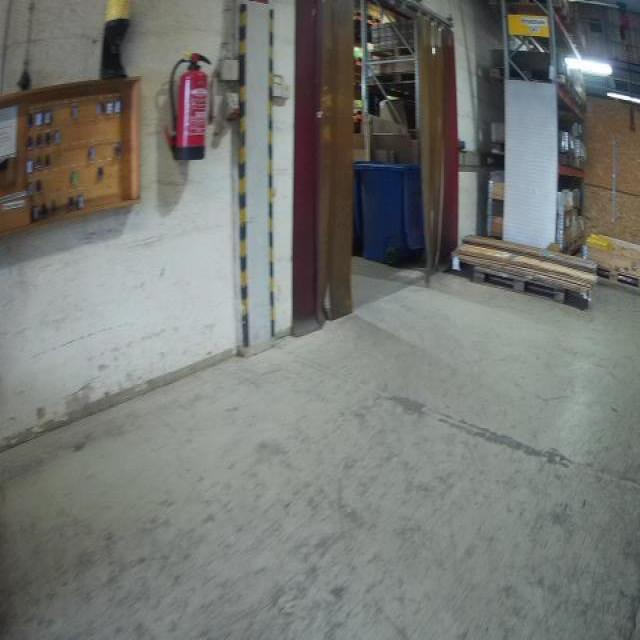pallet: (470, 265, 565, 306), (591, 265, 640, 292), (370, 43, 415, 62), (368, 69, 414, 86)
